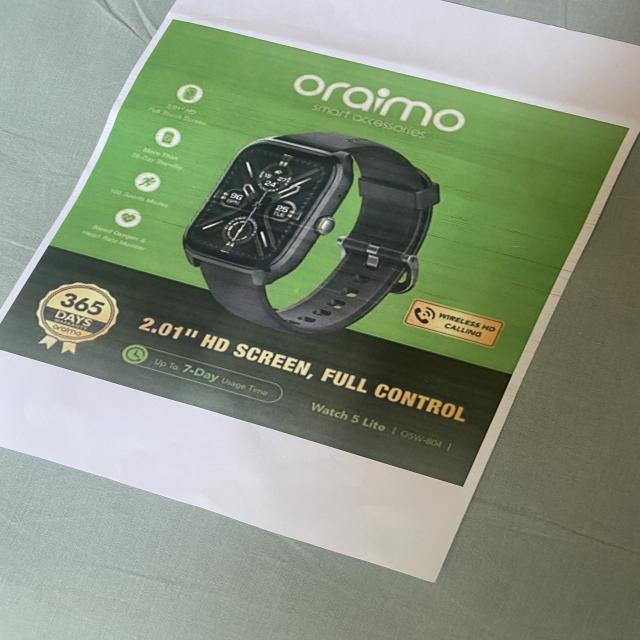Watch 5 Lite OSW-804: (307, 397, 461, 454)
